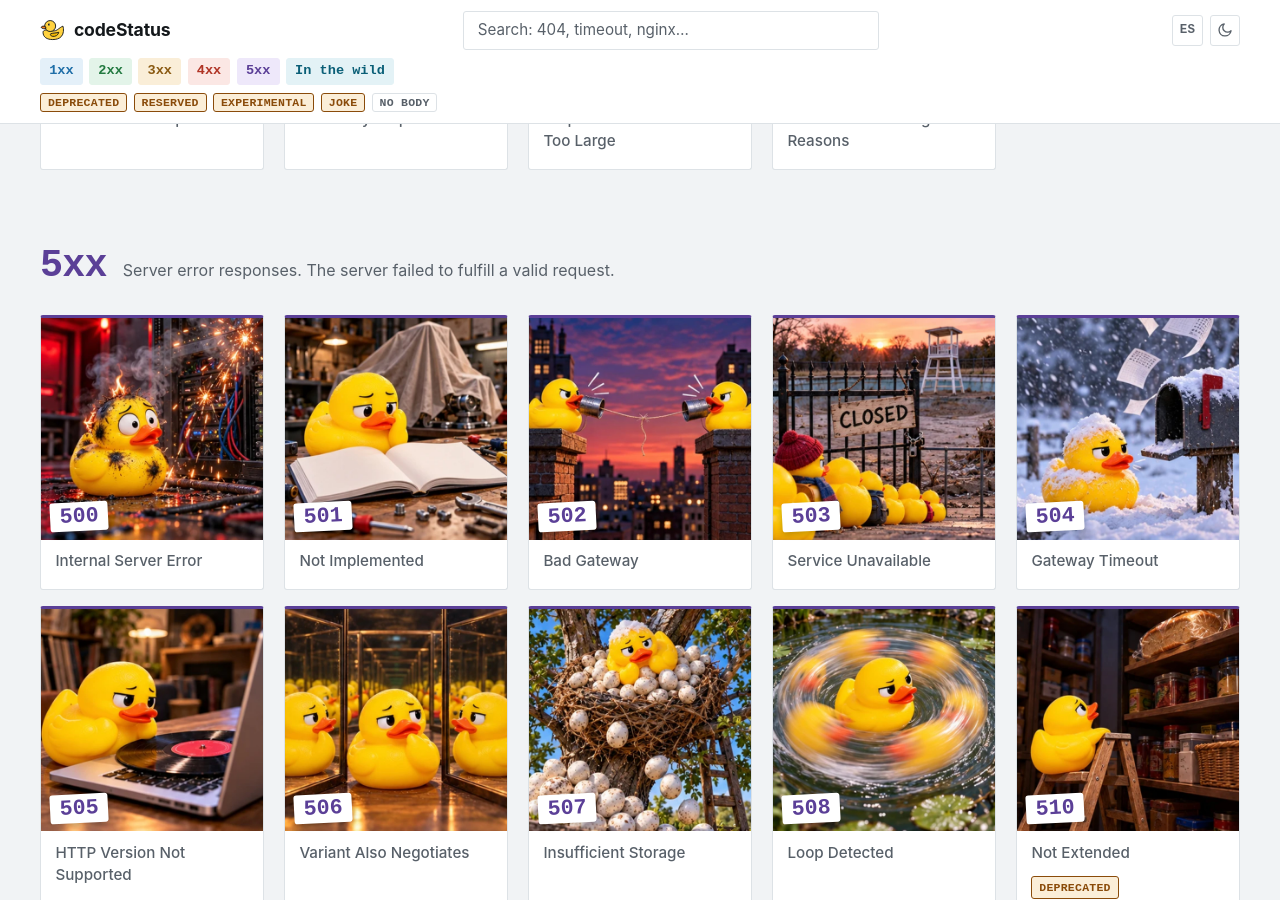
it: ficha encima del catálogo › Escape también la cierra
(page scrolled)
Click the link "503 Service Unavailable".
click(884, 451)  # box [772,315,996,586]
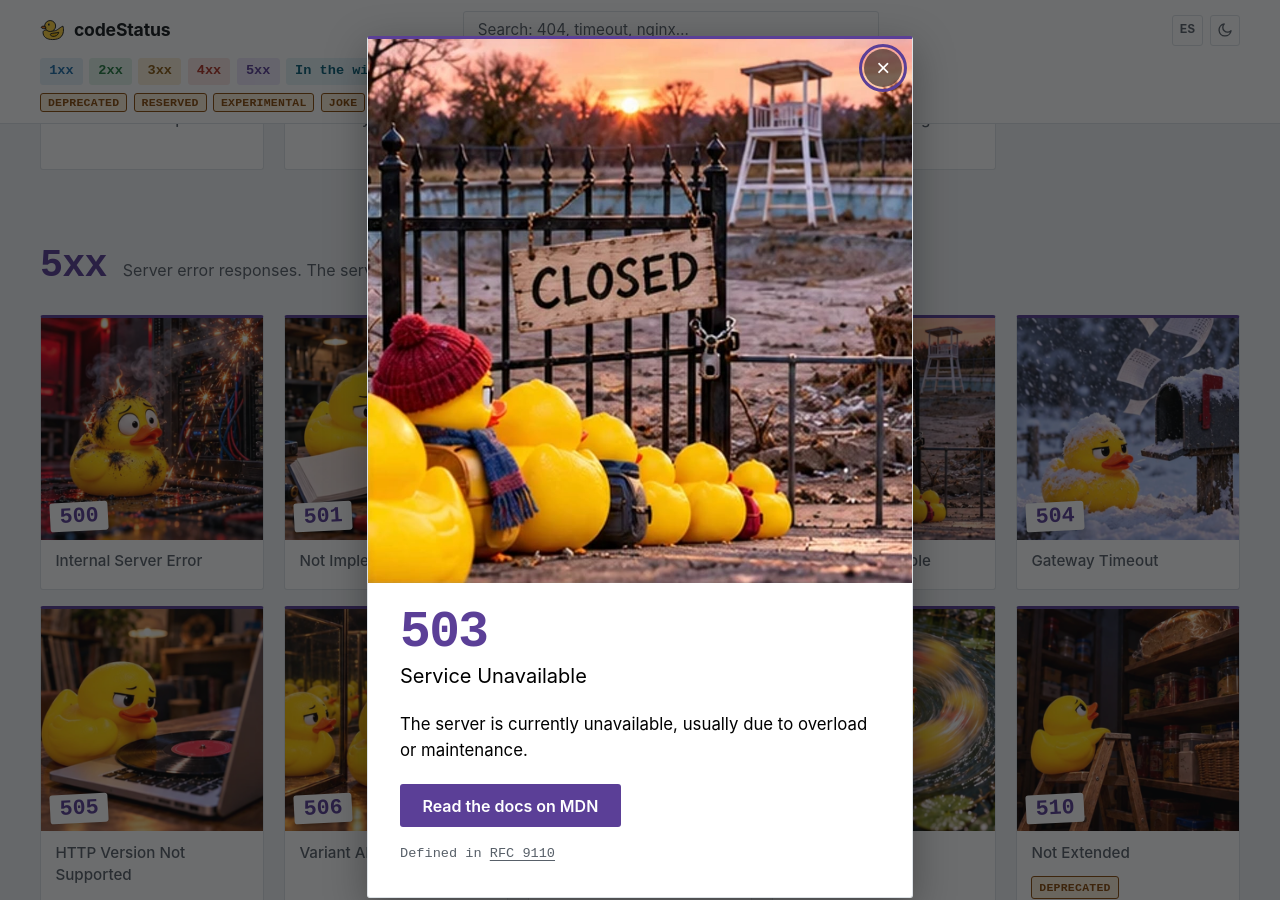
Press Escape
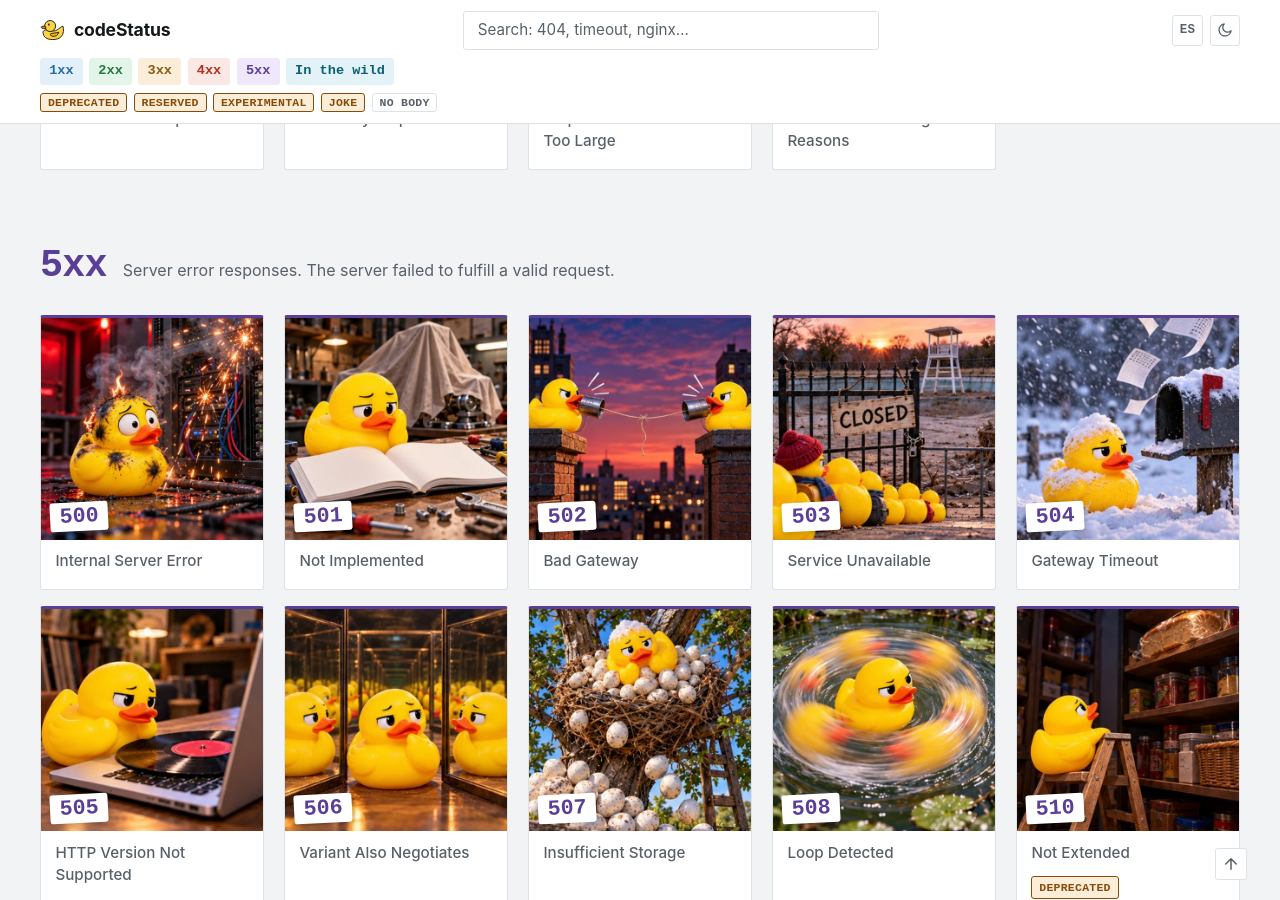
Expected: the dialog is gone
